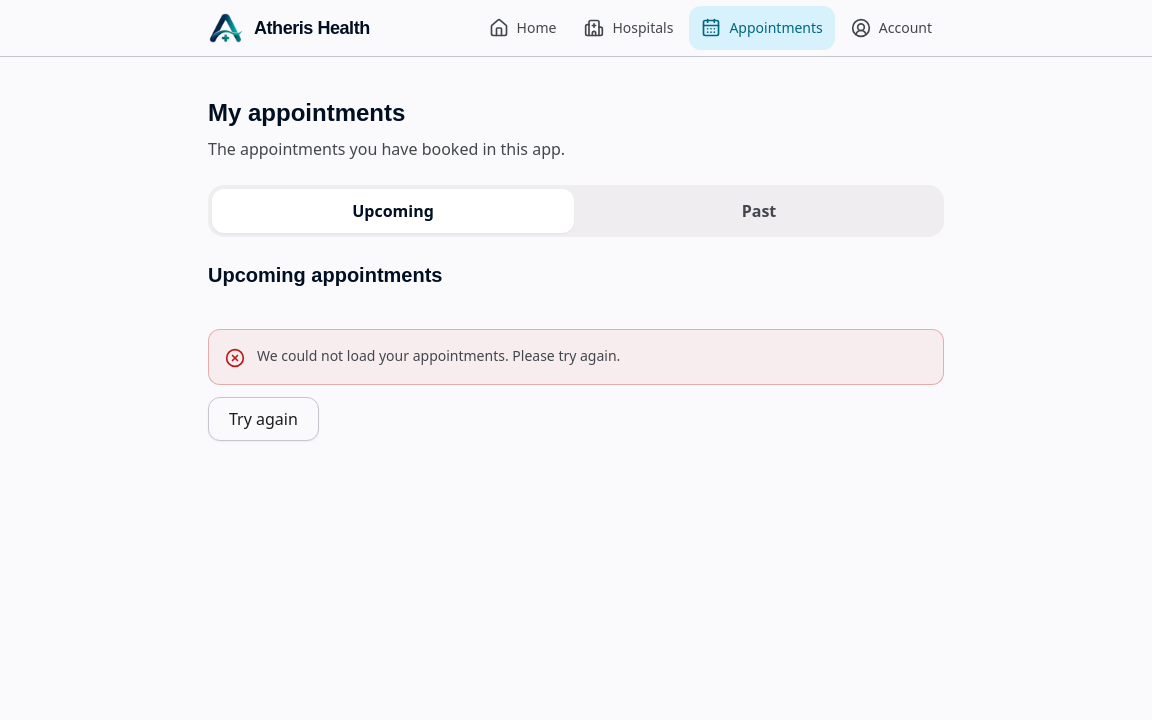
Test: my appointments — when it cannot load › ERROR — the app’s own message, never the server’s, and a retry that works
Expected: the message "We could not load your appointments. Please try again." is shown, [208,329,944,385]
Expected: the element that starts with "My appointments" does not show "No upcoming appointments", [208,99,944,441]
Click the button "Try again": (263, 419) [208,397,319,441]
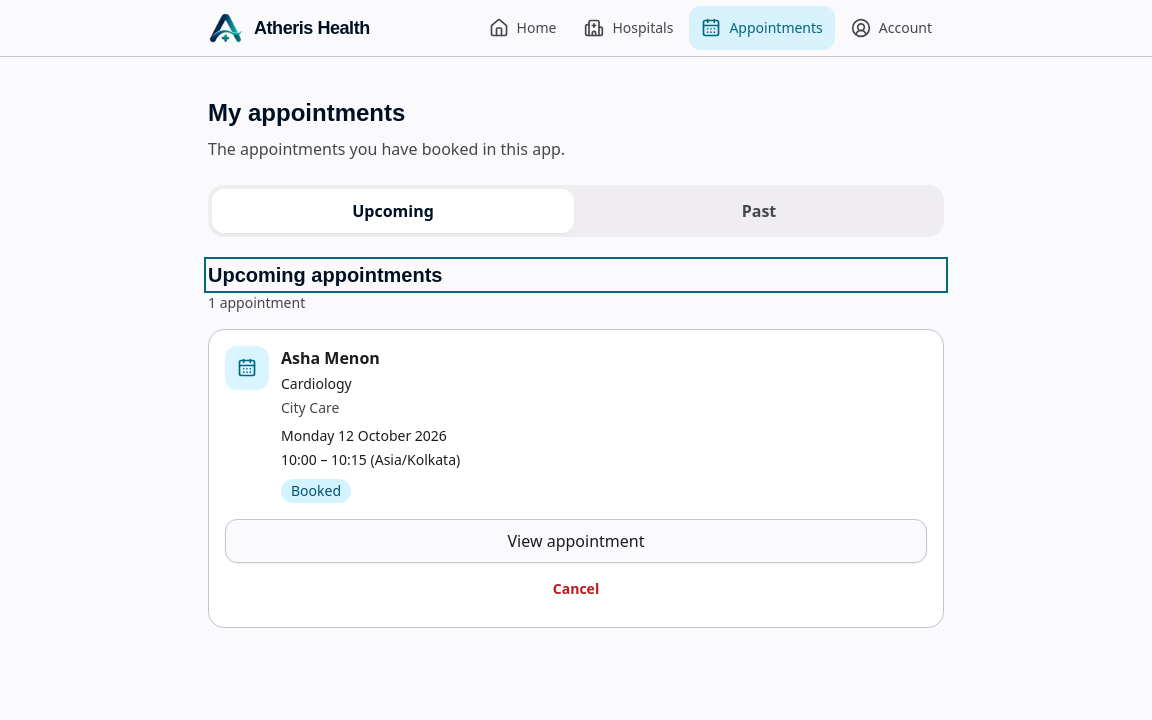
Expected: the list item "Asha Menon" is shown, [208,329,944,628]
Expected: the message "We could not load your appointments. Please try again." is gone
